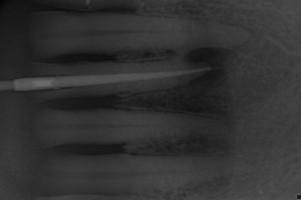Furcation Involvement: (178, 46, 238, 159), (184, 175, 233, 194)
